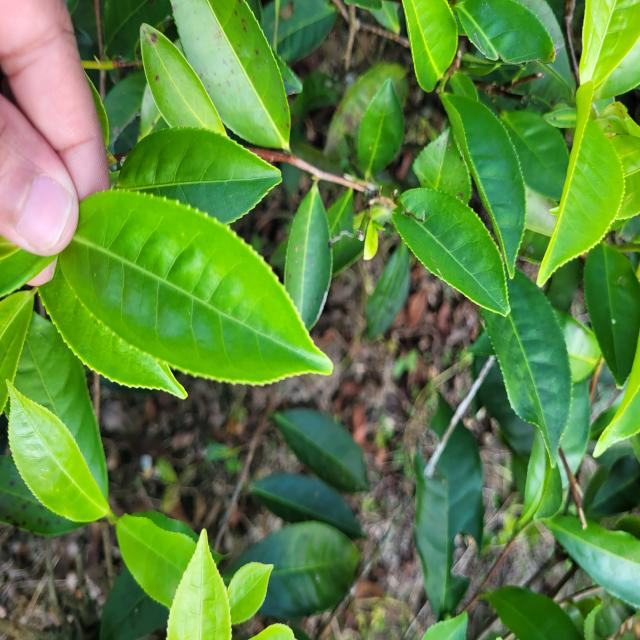Category B 2-4 days: (48, 175, 345, 404)
